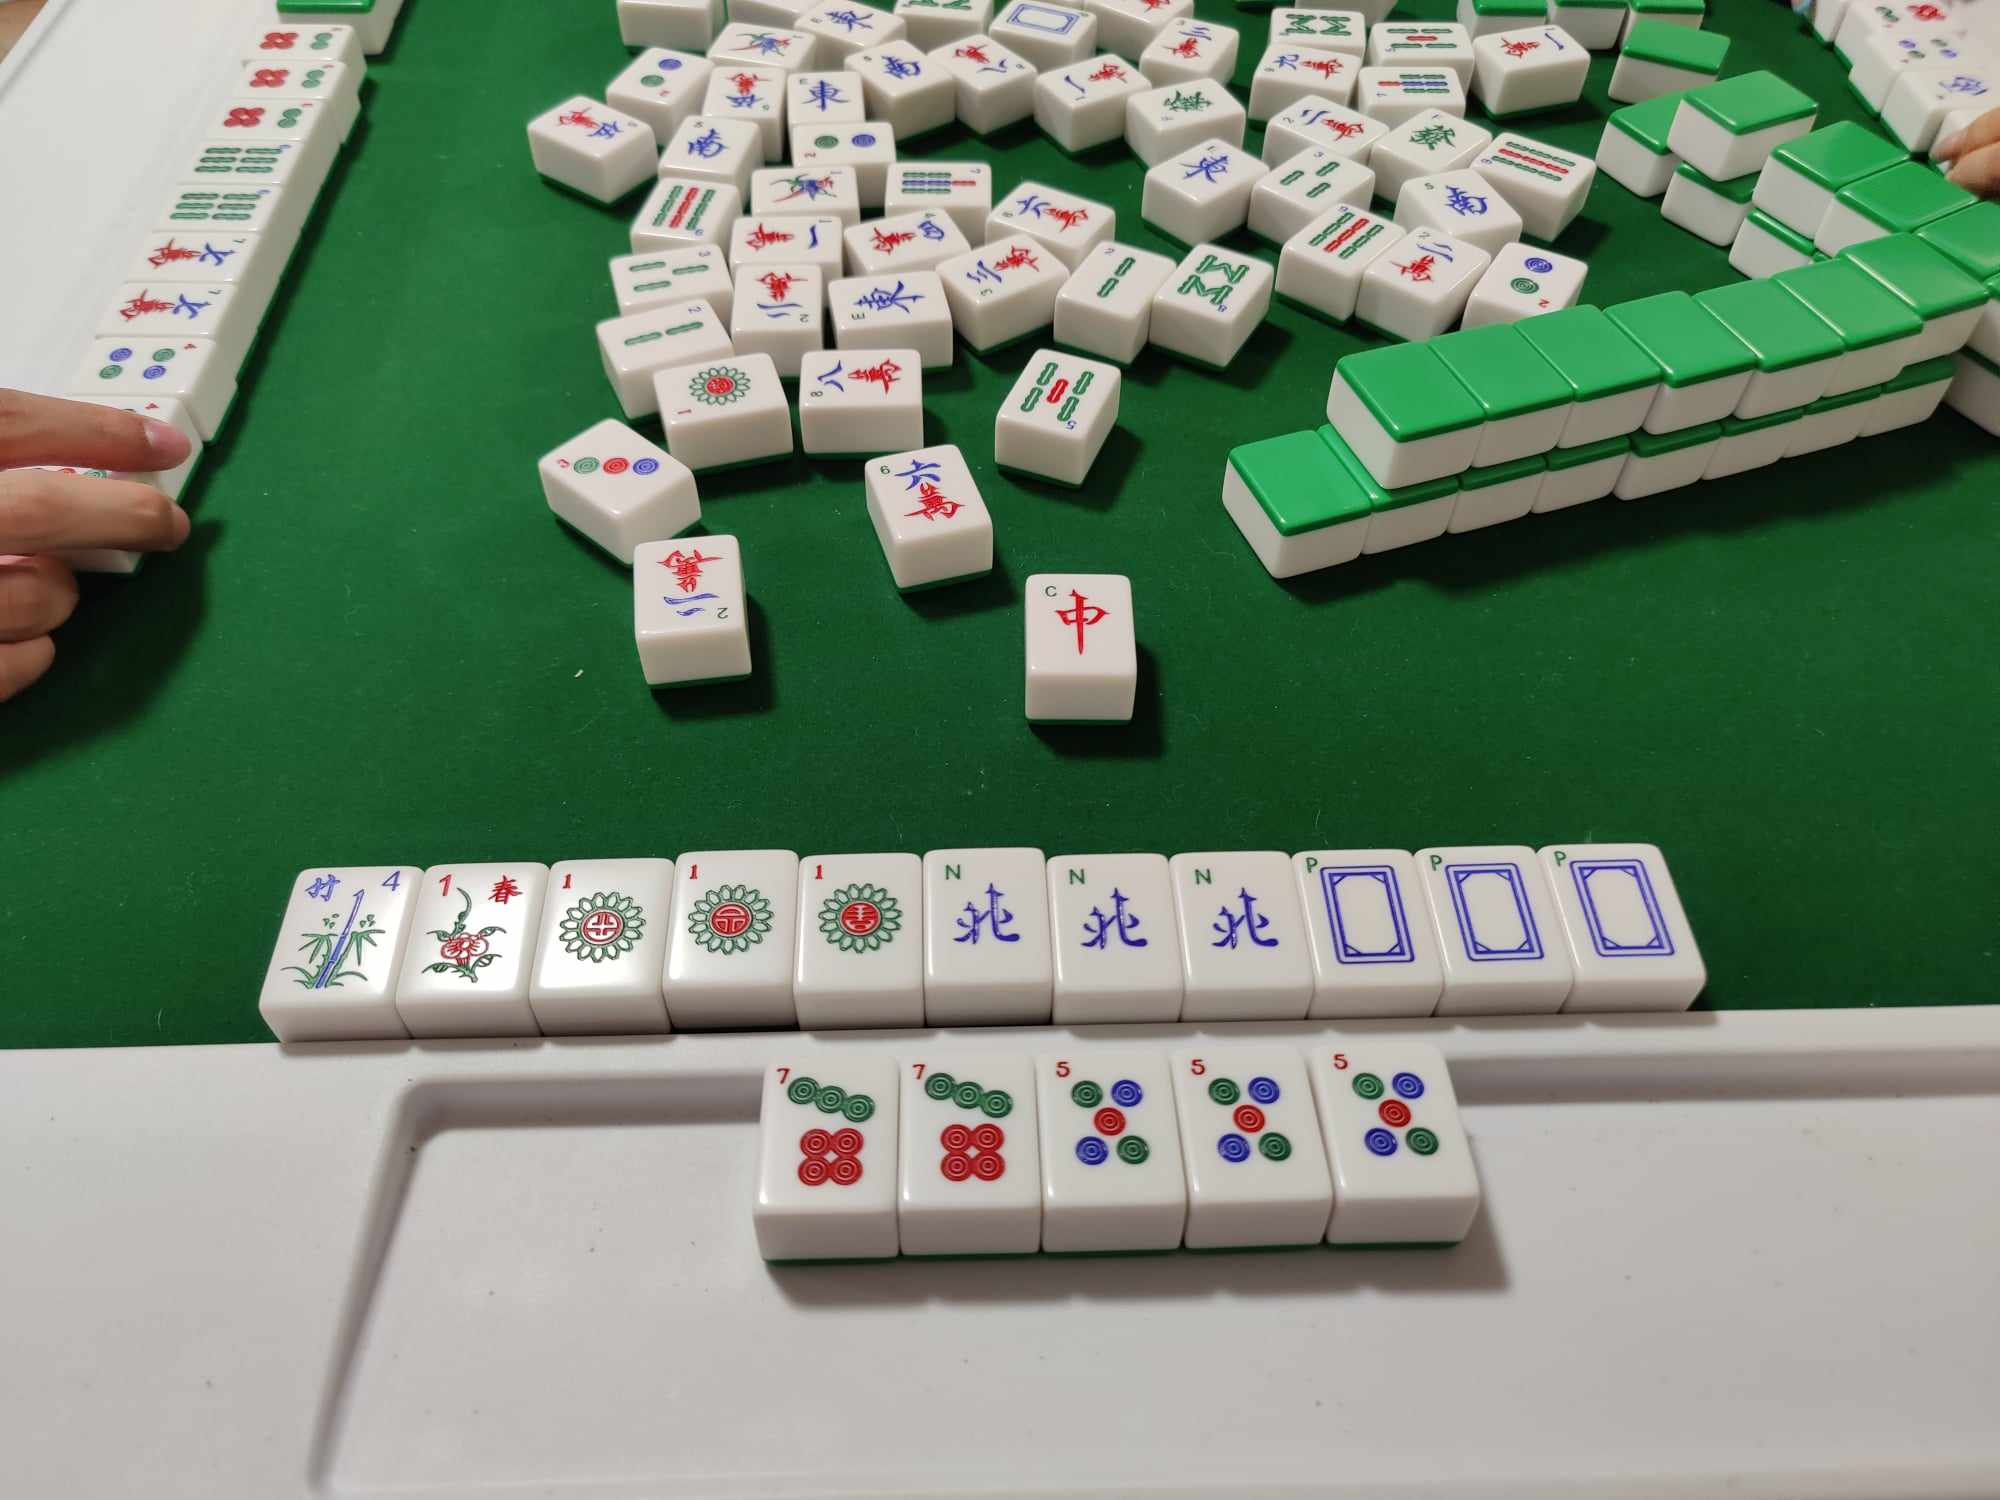circle-five: (1331, 1045, 1447, 1179), (1052, 1059, 1156, 1190), (1186, 1056, 1299, 1172)
circle-one: (554, 862, 657, 982), (805, 857, 906, 975), (677, 860, 783, 971)
circle-seven: (909, 1059, 1020, 1197), (772, 1064, 880, 1204)
flower-blue_four: (280, 871, 405, 994)
flower-red_one: (420, 863, 524, 989)
honor-blue_dragon: (1302, 852, 1420, 980), (1553, 848, 1679, 966), (1427, 852, 1550, 969)
honor-north_wind: (1184, 860, 1290, 974), (1058, 863, 1161, 967), (935, 859, 1030, 967)
